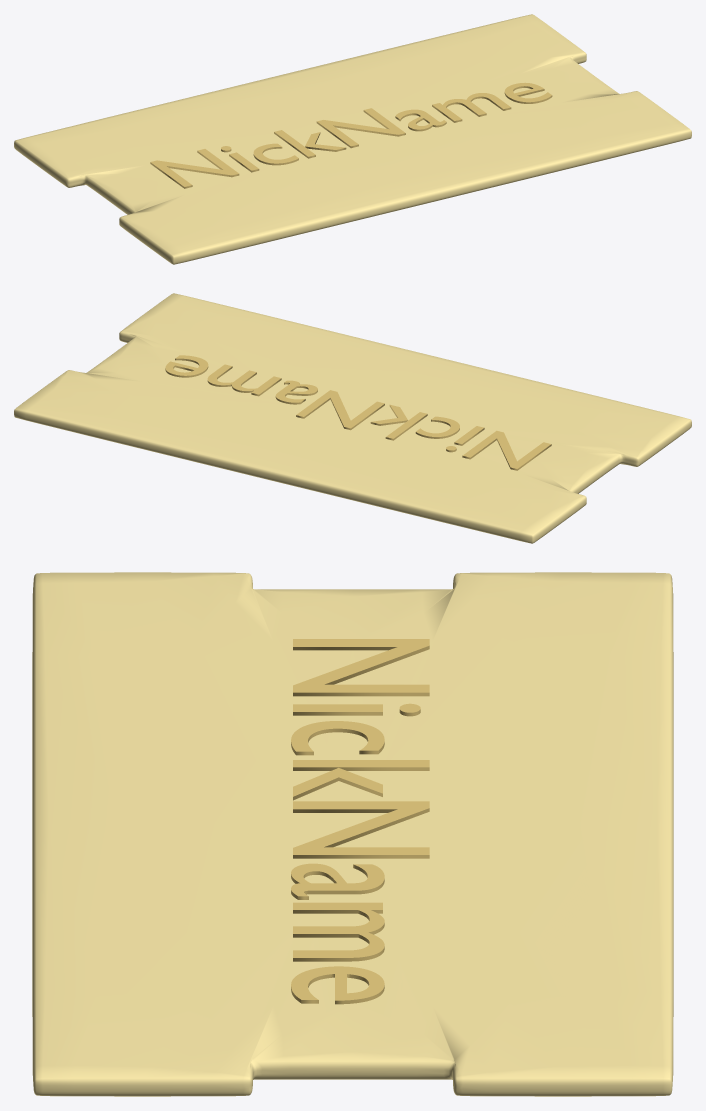
Rendered from ChangeNameTicket.fbx.
3 renders of one model, top to bottom at view 1: azimuth 30°, elevation 25°; view 2: azimuth 150°, elevation 25°; view 3: azimuth 270°, elevation 25°, orthographic. The views are drawn at different scales.
Visible parts, largest first — view 1: Ticket, NickName_Text; view 2: Ticket, NickName_Text; view 3: Ticket, NickName_Text.
Part boxes in pixels (x1=…): Ticket: x1=14, y1=14, x2=691, y2=264; NickName_Text: x1=150, y1=82, x2=552, y2=188; Ticket: x1=14, y1=293, x2=691, y2=543; NickName_Text: x1=165, y1=355, x2=551, y2=470; Ticket: x1=32, y1=572, x2=673, y2=1096; NickName_Text: x1=291, y1=639, x2=429, y2=1004.
Size of the model in its own units: 300 by 7.49 by 160.
